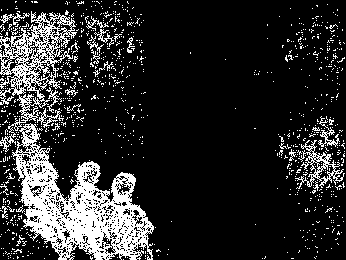person: (20, 160, 67, 260), (65, 160, 111, 260), (107, 172, 154, 260)
